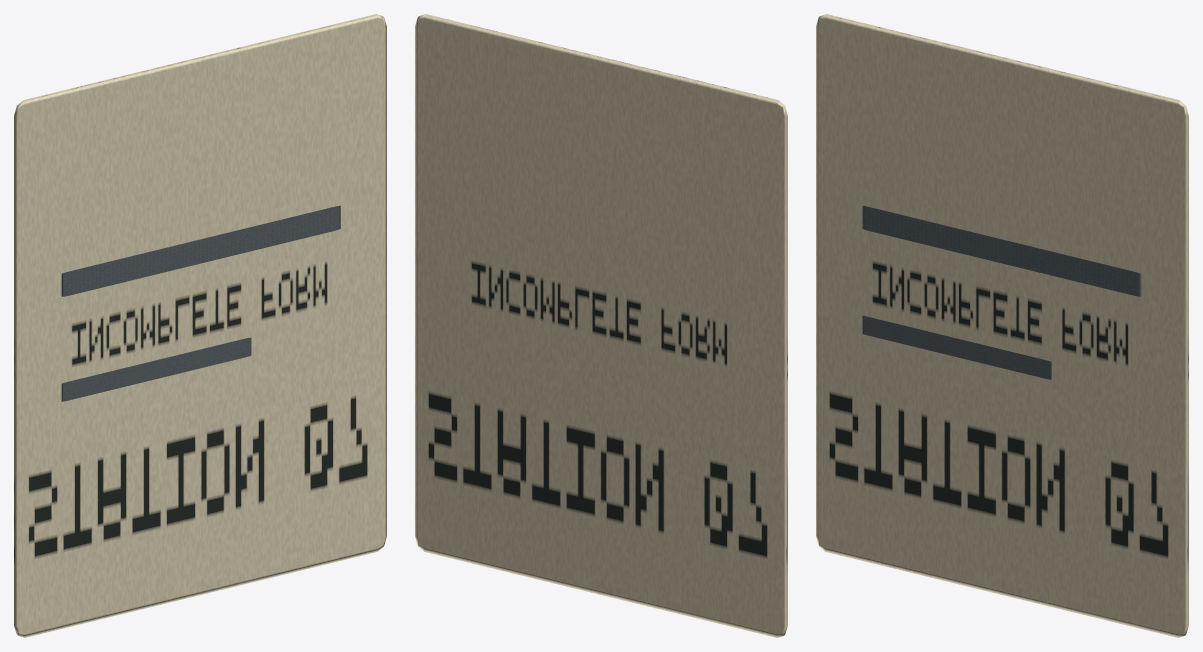
The model's file is incomplete-form.glb.
The picture shows the model from 3 angles, left to right: view 1: azimuth 30°, elevation 25°; view 2: azimuth 150°, elevation 25°; view 3: azimuth 330°, elevation 25°; orthographic projection.
Visible parts, largest first — view 1: board, stripe, line; view 2: board; view 3: board, stripe, line.
Boxes of the visible parts, box(x1,y1,x2,y2) form: board: box(14, 14, 386, 637); stripe: box(61, 205, 340, 296); line: box(61, 337, 251, 401); board: box(415, 14, 787, 637); board: box(816, 14, 1188, 637); stripe: box(862, 205, 1141, 296); line: box(862, 315, 1051, 379).
Size of the model in its own units: 0.21 by 0.29 by 0.00136.
2 materials, 2 textured.
